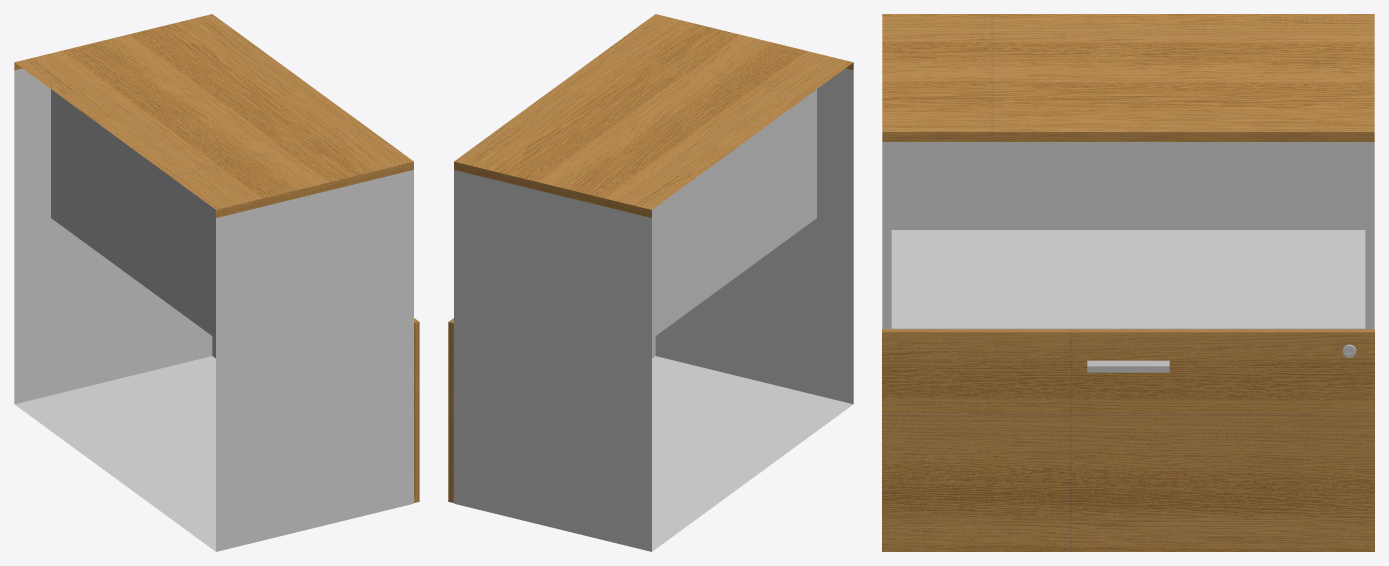
The model's file is Mesa Equipo de sonido.fbx.
The picture shows the model from 3 angles, left to right: view 1: azimuth 30°, elevation 25°; view 2: azimuth 150°, elevation 25°; view 3: azimuth 270°, elevation 25°; orthographic projection. The views are drawn at different scales.
Parts seen in each view (by area): view 1: Cajón, Door; view 2: Cajón, Door; view 3: Cajón, Door.
Boxes of the visible parts, <box> form: Cajón: <box>14,14,413,551</box>; Door: <box>414,318,419,502</box>; Cajón: <box>454,14,853,551</box>; Door: <box>448,318,453,502</box>; Cajón: <box>882,14,1374,329</box>; Door: <box>882,329,1374,551</box>.
Size of the model in its own units: 368 by 564 by 603.
